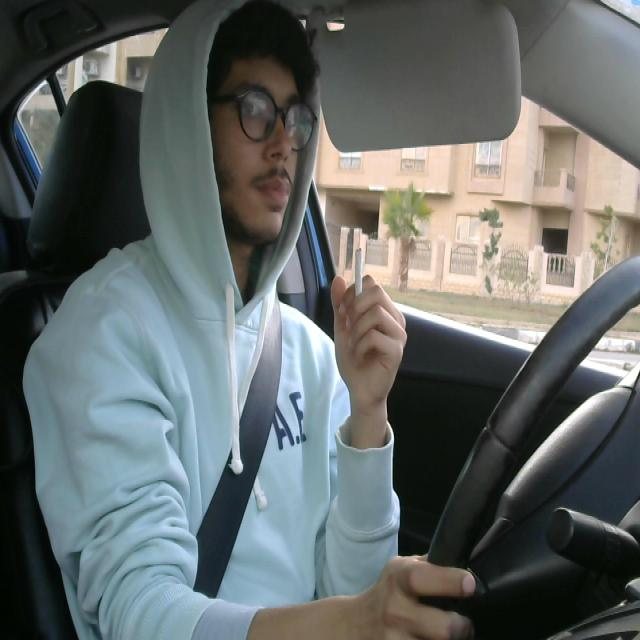smoking: (352, 240, 368, 321)
